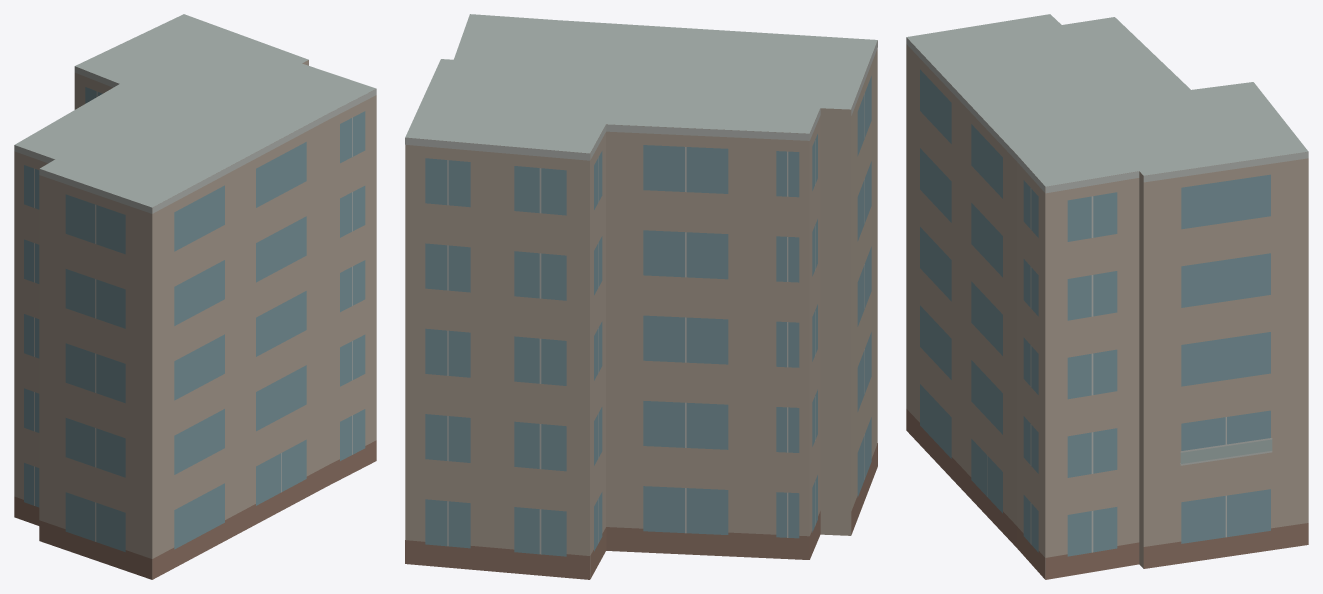
File: survey-upis-32758935.glb
3 views of the same model, side by side, from view 1: azimuth 30°, elevation 25°; view 2: azimuth 150°, elevation 25°; view 3: azimuth 270°, elevation 25° (orthographic). The views are drawn at different scales.
Parts seen in each view (by area): view 1: survey-upis-32758935.tmp; view 2: survey-upis-32758935.tmp; view 3: survey-upis-32758935.tmp.
Part boxes in pixels (bbox=[...]): survey-upis-32758935.tmp: bbox=[14, 14, 376, 579]; survey-upis-32758935.tmp: bbox=[405, 14, 877, 579]; survey-upis-32758935.tmp: bbox=[906, 14, 1308, 579].
Bounding box in the file's own units: 13.48 × 14.3 × 13.27.
